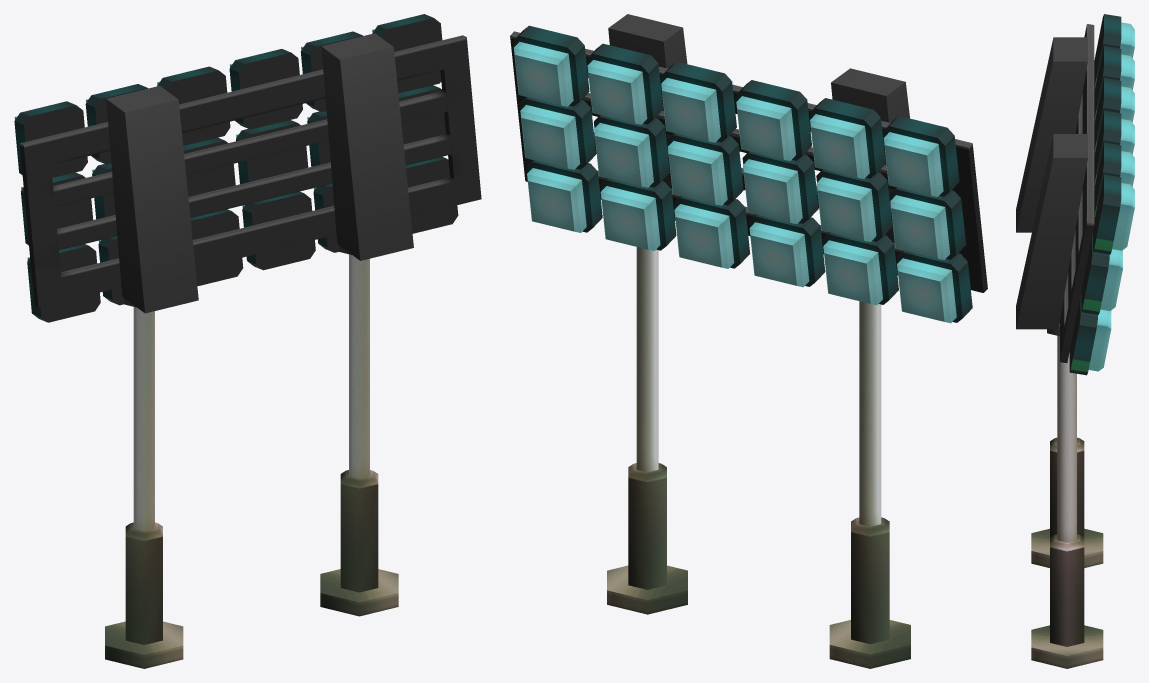
File: pillar03.FBX
The picture shows the model from 3 angles, left to right: view 1: azimuth 30°, elevation 25°; view 2: azimuth 150°, elevation 25°; view 3: azimuth 270°, elevation 25°; orthographic projection. The views are drawn at different scales.
Visible parts, largest first — view 1: pillar03; view 2: pillar03; view 3: pillar03.
Part boxes in pixels (box(x1,y1,x2,y2)): pillar03: box(14, 14, 481, 668); pillar03: box(510, 14, 987, 668); pillar03: box(1016, 14, 1134, 668).
Bounding box in the file's own units: 130 × 154 × 32.74.
